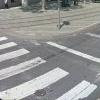Crosswalk: (2, 35, 86, 100)
